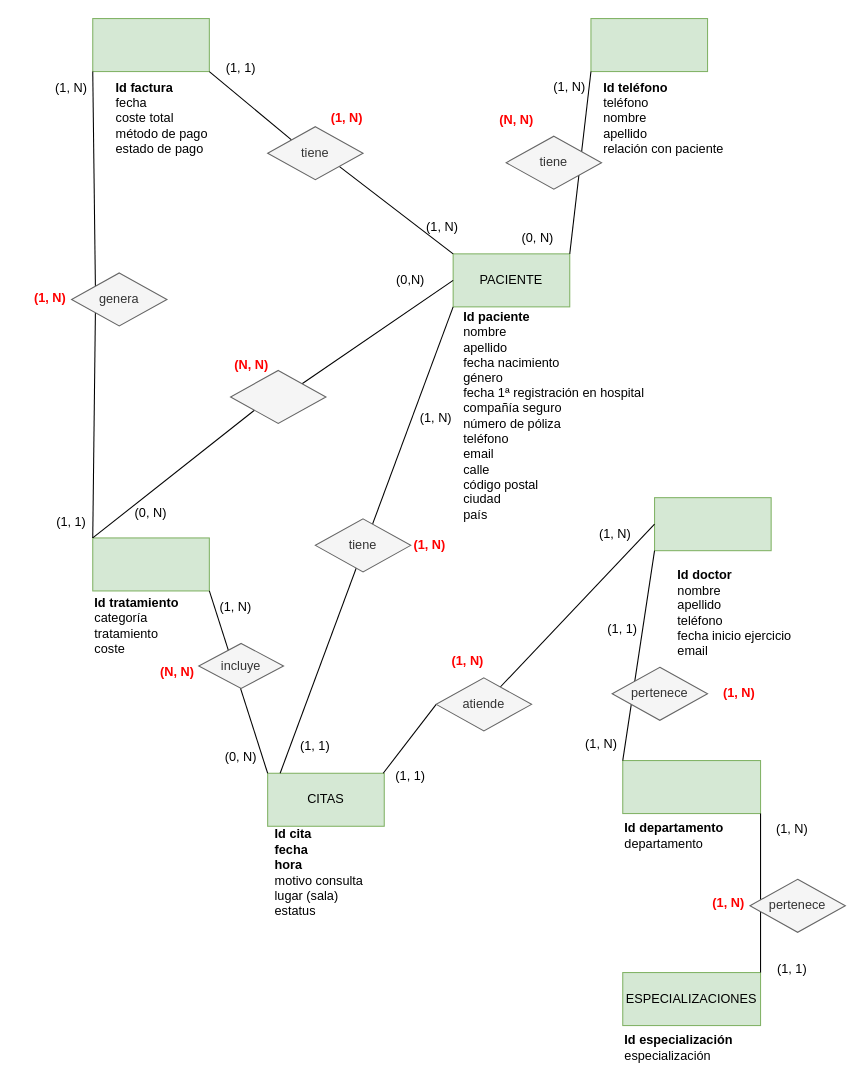
Some shapes in this 864 by 1089 pixel diagram are drawn without their labels. The shapes that lost their labels are listed below. From the top down, each one's centre as x and y in pixels, then its label:
the point at 150,44: FACTURAS
the point at 649,44: CONTACTOS
the point at 277,396: recibe
the point at 712,524: DOCTORES
the point at 150,564: TRATAMIENTOS
the point at 691,786: DEPARTAMENTO
